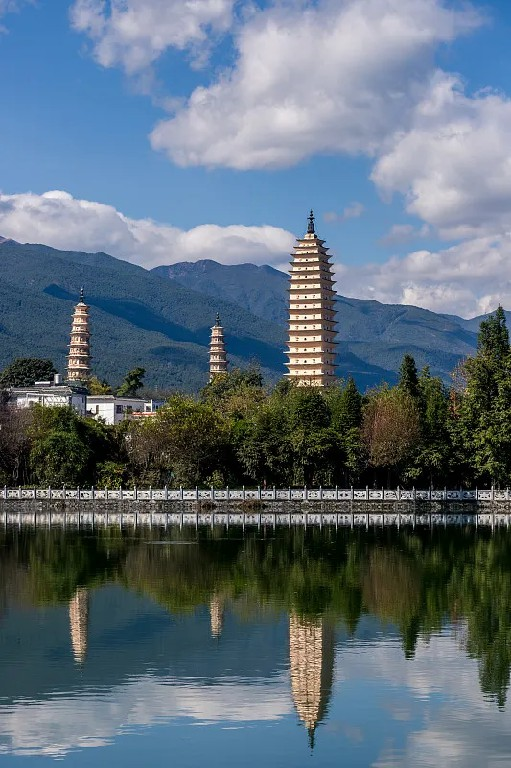ThreePagoda: (282, 209, 339, 384)
